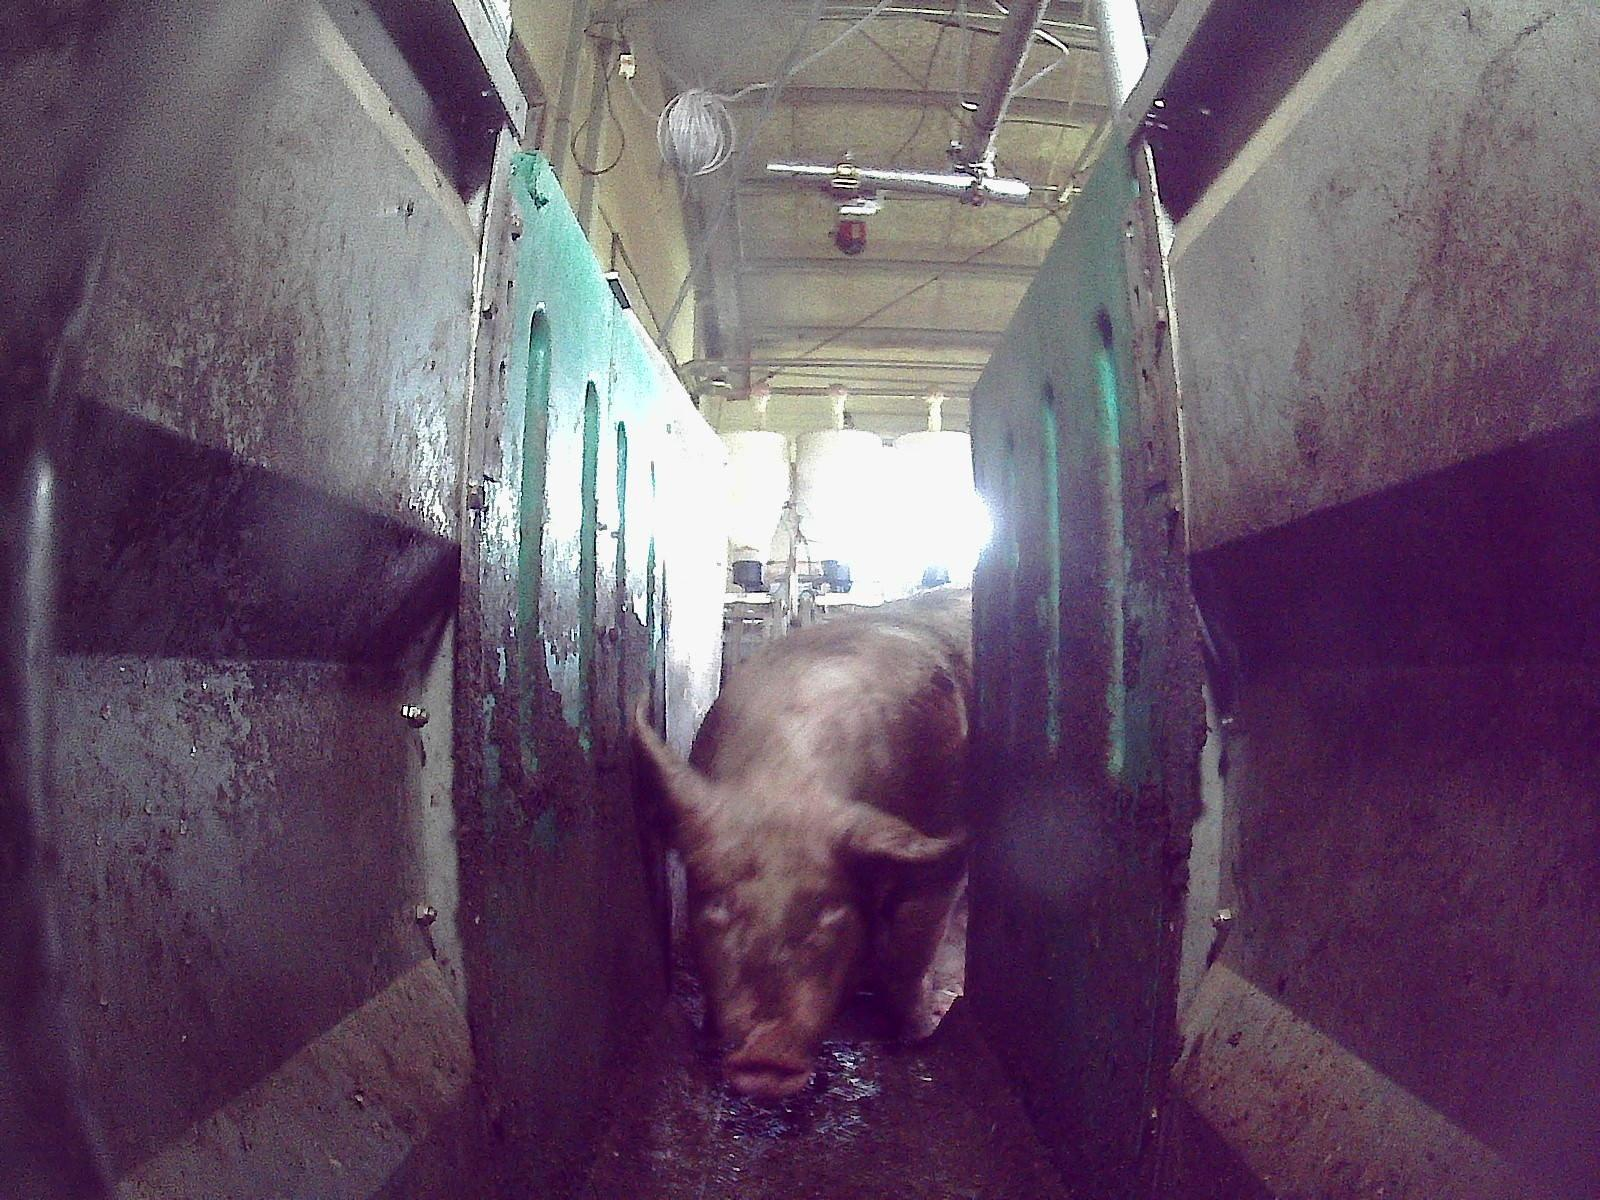Face: (683, 793, 868, 1097)
